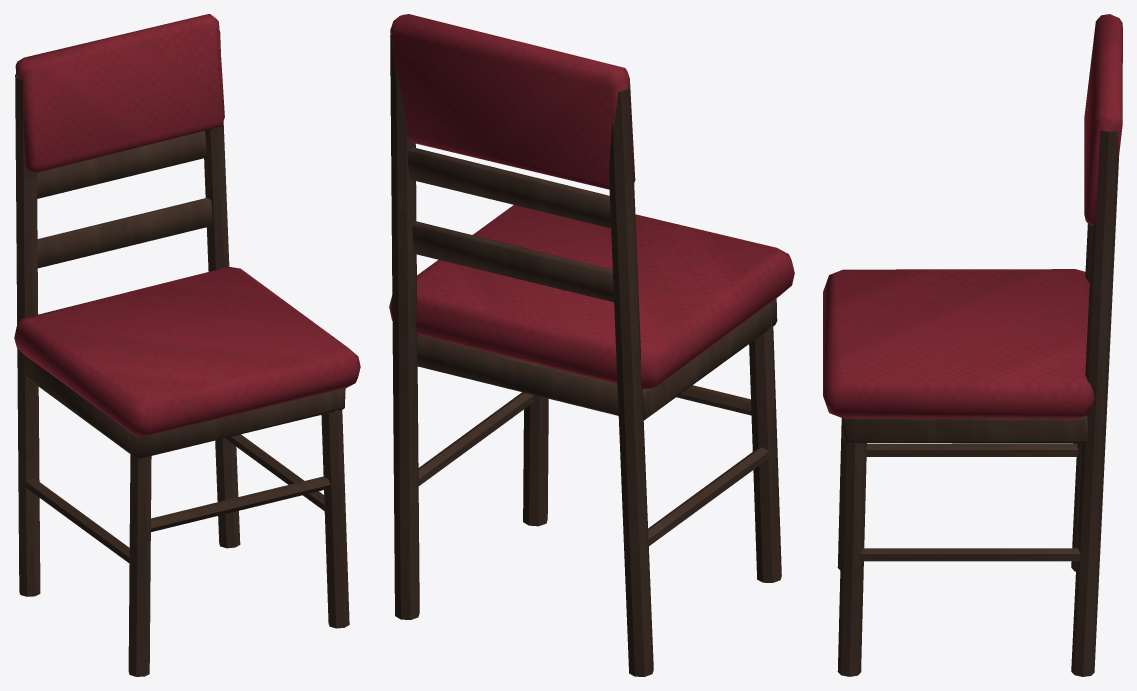
Rendered from cadeira-leve.glb.
3 renders of one model, left to right at view 1: azimuth 30°, elevation 25°; view 2: azimuth 150°, elevation 25°; view 3: azimuth 270°, elevation 25°, orthographic. The views are drawn at different scales.
Visible parts, largest first — view 1: assento, encosto, pe-tras, saia, ripa-encosto, pe-tras.001, pe-frente, ripa-encosto.001, pe-frente.001, travessa-frente, travessa-lado, travessa-lado.001; view 2: assento, encosto, pe-tras, pe-tras.001, saia, ripa-encosto.001, ripa-encosto, pe-frente, pe-frente.001, travessa-lado, travessa-lado.001, travessa-frente; view 3: assento, pe-tras.001, saia, pe-frente.001, encosto, travessa-lado.001, travessa-lado, pe-tras, pe-frente.
Part boxes in pixels (x1,y1,x2,y2): assento: [14, 266, 360, 436]; encosto: [15, 14, 224, 172]; pe-tras: [15, 74, 40, 596]; saia: [23, 354, 345, 458]; ripa-encosto: [37, 197, 213, 268]; pe-tras.001: [204, 30, 240, 548]; pe-frente: [128, 437, 151, 676]; ripa-encosto.001: [37, 131, 207, 198]; pe-frente.001: [321, 409, 349, 628]; travessa-frente: [151, 476, 330, 531]; travessa-lado: [26, 478, 129, 563]; travessa-lado.001: [226, 434, 324, 510]; assento: [389, 205, 794, 389]; encosto: [390, 14, 635, 189]; pe-tras: [609, 85, 653, 676]; pe-tras.001: [390, 34, 419, 619]; saia: [417, 298, 777, 420]; ripa-encosto.001: [407, 148, 610, 228]; ripa-encosto: [412, 221, 613, 302]; pe-frente: [749, 304, 781, 582]; pe-frente.001: [523, 395, 548, 526]; travessa-lado: [648, 447, 770, 545]; travessa-lado.001: [418, 392, 533, 485]; travessa-frente: [676, 385, 751, 415]; assento: [823, 269, 1094, 418]; pe-tras.001: [1071, 130, 1118, 676]; saia: [843, 416, 1087, 443]; pe-frente.001: [837, 441, 866, 676]; encosto: [1084, 14, 1122, 225]; travessa-lado.001: [858, 548, 1080, 561]; travessa-lado: [866, 444, 1078, 456]; pe-tras: [1071, 224, 1092, 571]; pe-frente: [837, 418, 843, 569].
Bounding box in the file's own units: 0.4378 × 0.9494 × 0.4623.
2 materials, 2 textured.
